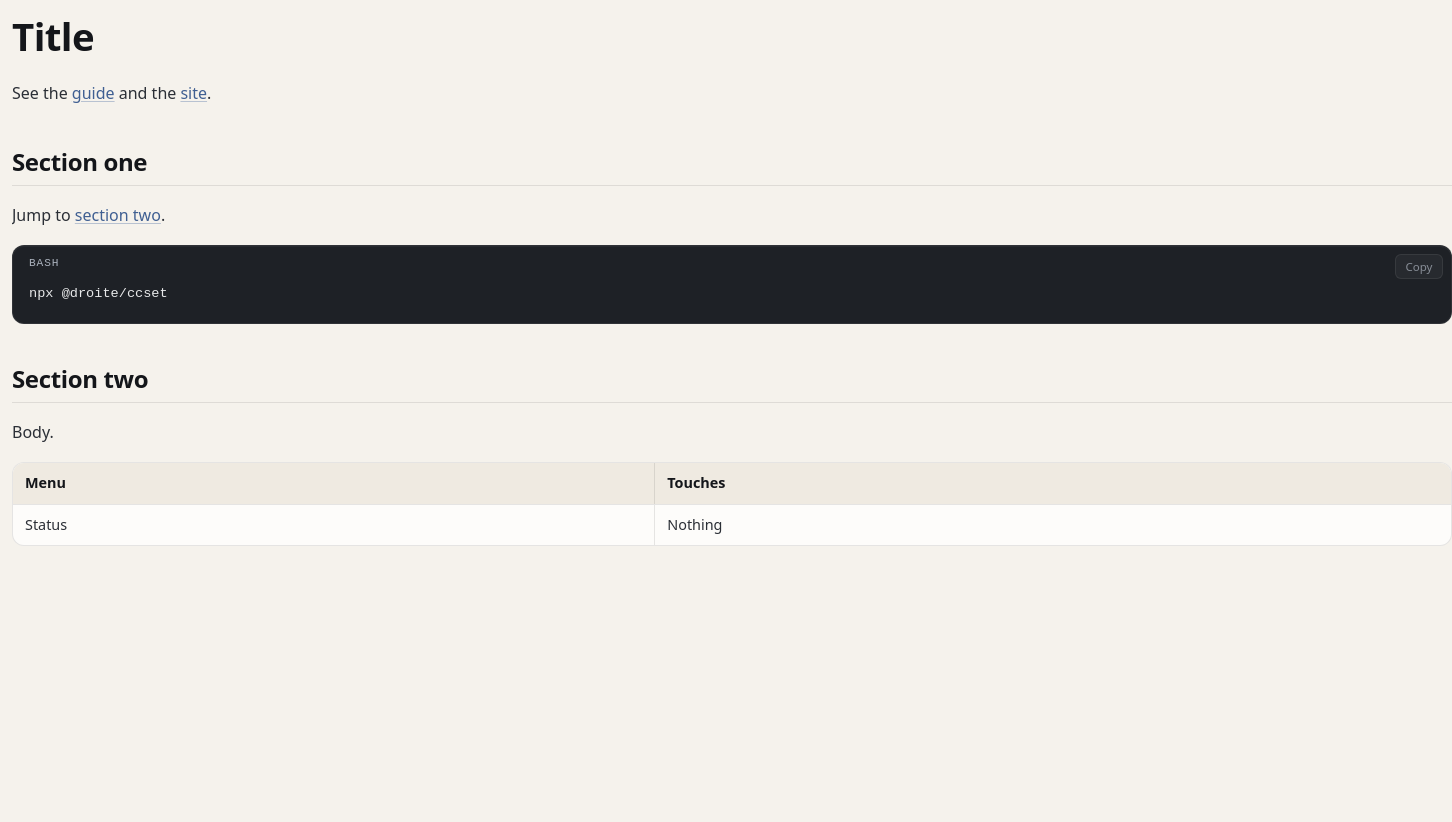
MarkdownView copy interaction › copies a code block without the button label via the delegated click
What coordinates should you click on to do the following:
click the button with class "code-copy"
I would click on:
 (1419, 267)
Its box is left=1395, top=254, right=1443, bottom=279.
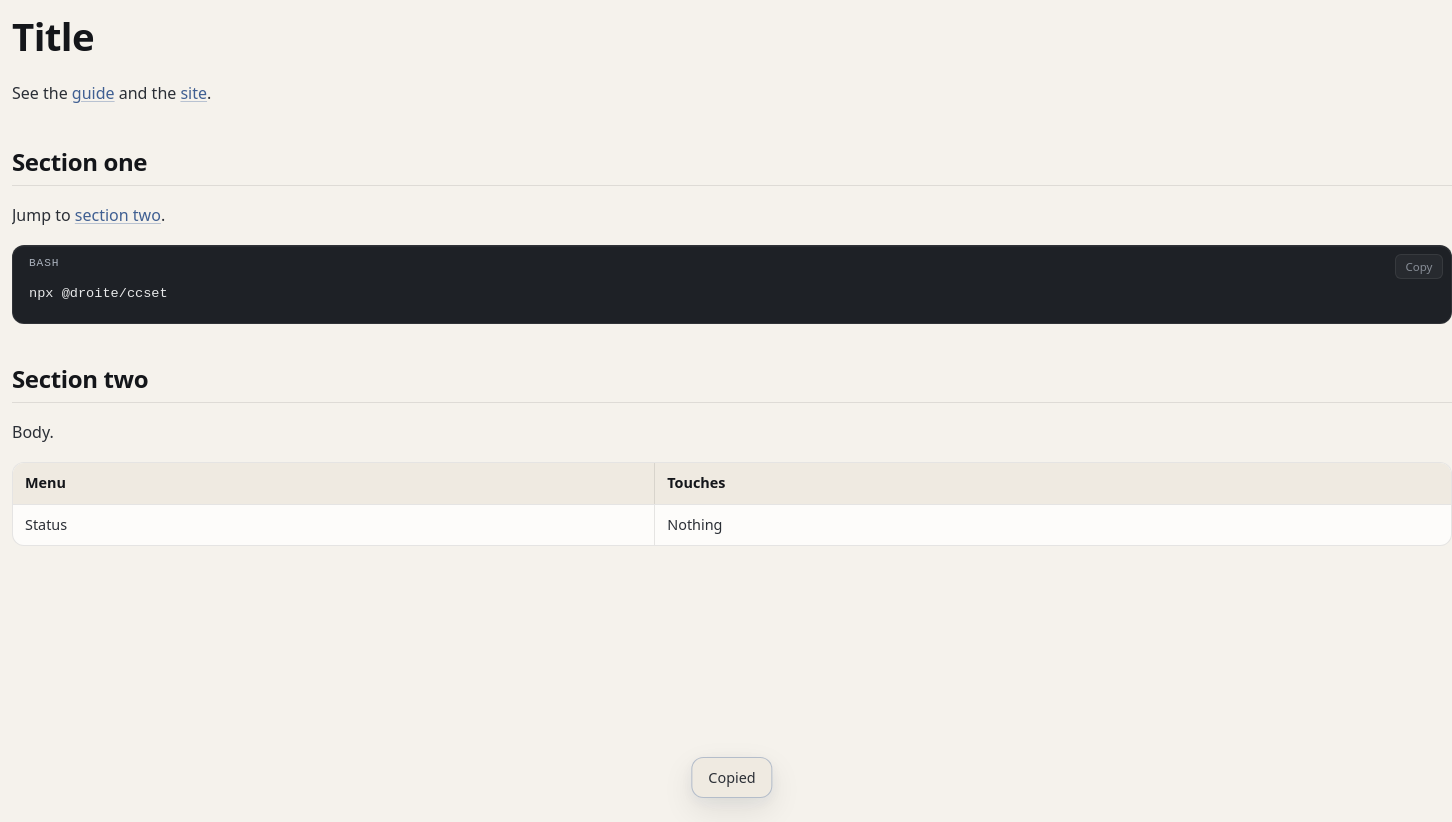
expect the message reads "Copied": met, box left=708, top=768, right=756, bottom=787
